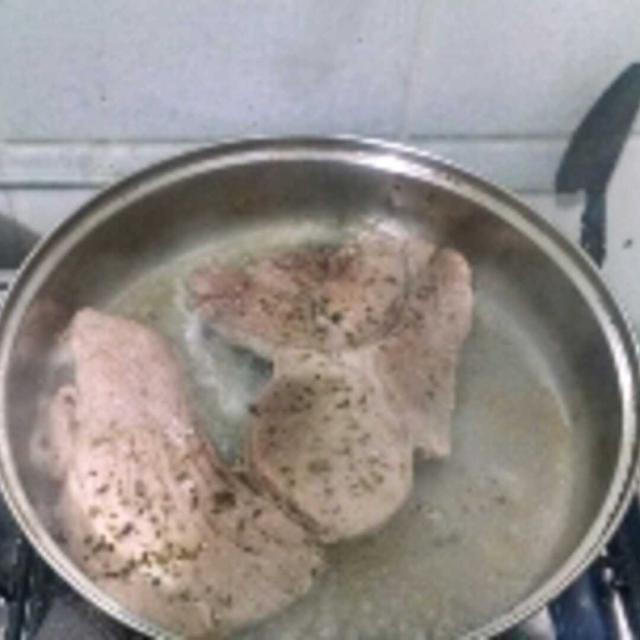carne de res: (61, 257, 487, 613)
